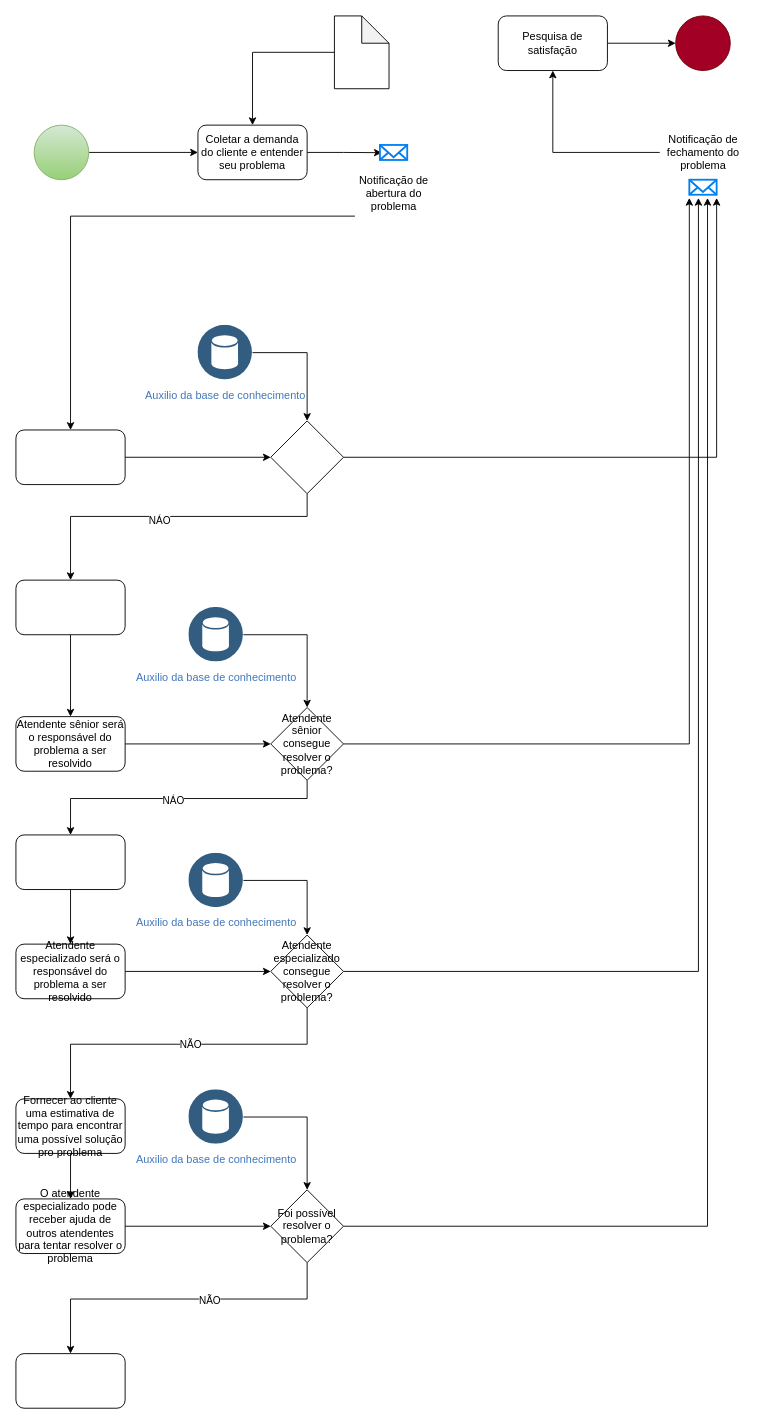
The diagram is 762 pixels wide and 1424 high, and some of its shapes have lost their labels. The centre of each missing label's shape, as x and y in pixels:
"Atendente consegue resolver o problema?" goes at [307,457].
"Atendente irá analisar e categorizar o problema" goes at [70,457].
"Cliente aciona a empresa via e-mail, chat, etc" goes at [61,152].
"Dados da solicitação" goes at [361,52].
"Notificar o cliente e tomar providências para suprir o problema do cliente" goes at [70,1380].
"O problema será designado ao atendimento de nível 2 (N2)" goes at [70,607].
"O problema será designado ao atendimento de nível 3 (N3)" goes at [70,862].
